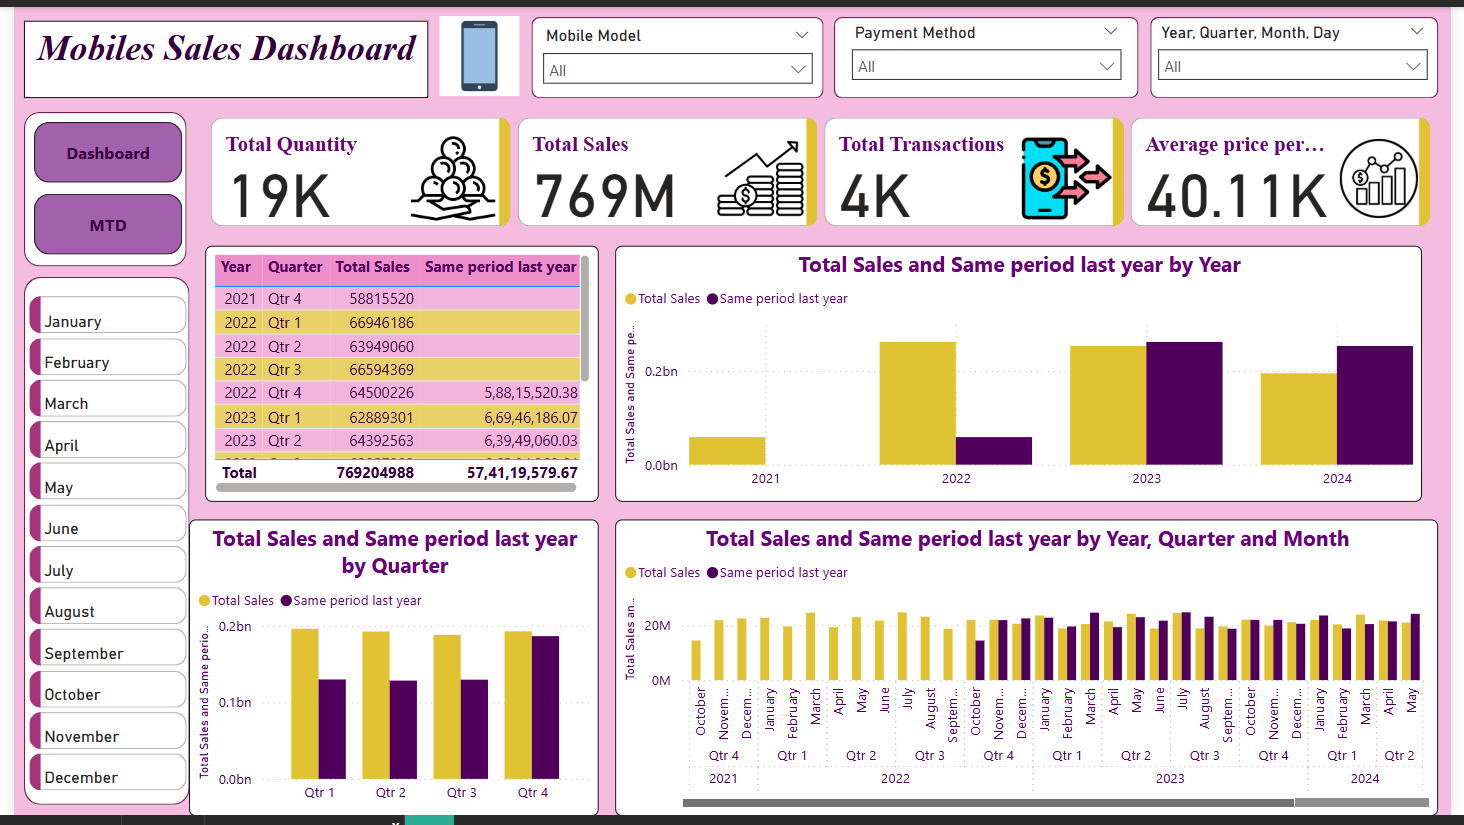

This screenshot's page, from the dashboard's own definition file:
{"tool":"powerbi","page":{"name":"Same Period Last Year","canvas":[1280,720],"ordinal":2},"visuals":[{"type":"shape","box":[8.8,240,147.5,470],"z":0},{"type":"advancedSlicerVisual","fields":{"Values":["Date_Table.Date.Variation.Date Hierarchy.Month"]},"box":[8.8,252.5,150,457.5],"z":1000},{"type":"shape","box":[8.6,93.3,144.8,137.4],"z":2000},{"type":"shape","box":[461.4,8.6,260.1,72.4],"z":3000},{"type":"textbox","box":[8.8,12.5,360,68.8],"z":4000},{"type":"shape","box":[730.1,8.6,271.2,72.4],"z":5000},{"type":"shape","box":[1012.3,8.6,256.4,72.4],"z":6000},{"type":"slicer","fields":{"Values":["Sales_Data.Mobile Model"]},"box":[461.4,12.3,260.1,66.3],"z":7000},{"type":"slicer","fields":{"Values":["Sales_Data.Payment Method"]},"box":[736.2,8.6,260.1,66.3],"z":8000},{"type":"slicer","fields":{"Values":["Date_Table.Date.Variation.Date Hierarchy.Year","Date_Table.Date.Variation.Date Hierarchy.Quarter","Date_Table.Date.Variation.Date Hierarchy.Month","Date_Table.Date.Variation.Date Hierarchy.Day"]},"box":[1008.6,8.6,260.1,66.3],"z":9000},{"type":"cardVisual","fields":{"Data":["Sales_Data.Total Quantity","Sales_Data.Total Sales","Sales_Data.Total Transactions","Sales_Data.Average price per unit"]},"box":[170,93.8,1098.8,107.5],"z":10000},{"type":"image","box":[357.5,3.8,113.8,81.2],"z":11000},{"type":"tableEx","fields":{"Values":["Date_Table.Date.Variation.Date Hierarchy.Year","Date_Table.Date.Variation.Date Hierarchy.Quarter","Sales_Data.Total Sales","Sales_Data.Same period last year"]},"box":[170.2,212.1,350.6,228],"z":12000},{"type":"clusteredColumnChart","fields":{"Category":["Date_Table.Date.Variation.Date Hierarchy.Year","Date_Table.Date.Variation.Date Hierarchy.Quarter"],"Y":["Sales_Data.Total Sales","Sales_Data.Same period last year"]},"box":[535.3,212.1,718.5,228],"z":13000},{"type":"clusteredColumnChart","fields":{"Category":["Date_Table.Date.Variation.Date Hierarchy.Year","Date_Table.Date.Variation.Date Hierarchy.Quarter","Date_Table.Date.Variation.Date Hierarchy.Month"],"Y":["Sales_Data.Total Sales","Sales_Data.Same period last year"]},"box":[535.3,455.9,732.9,264],"z":14000},{"type":"clusteredColumnChart","fields":{"Category":["Date_Table.Date.Variation.Date Hierarchy.Year","Date_Table.Date.Variation.Date Hierarchy.Quarter"],"Y":["Sales_Data.Total Sales","Sales_Data.Same period last year"]},"box":[155.8,455.9,365,264],"z":15000},{"type":"pageNavigator","box":[17.3,102.4,132.7,118.3],"z":16000}]}

Visuals, with their boxes in screenshot pixels (x1, y1, x2, y2), scaled from the page's 1280x720 canvas onto the 1464x825 screenshot:
shape: 10 275 179 814
advancedSlicerVisual - Date_Table.Date.Variation.Date Hierarchy.Month: 10 289 182 814
shape: 10 107 175 264
shape: 528 10 825 93
textbox: 10 14 422 93
shape: 835 10 1145 93
shape: 1158 10 1451 93
slicer - Sales_Data.Mobile Model: 528 14 825 90
slicer - Sales_Data.Payment Method: 842 10 1140 86
slicer - Date_Table.Date.Variation.Date Hierarchy.Year x Date_Table.Date.Variation.Date Hierarchy.Quarter: 1154 10 1451 86
cardVisual - Sales_Data.Total Quantity x Sales_Data.Total Sales: 194 107 1451 231
image: 409 4 539 97
tableEx - Date_Table.Date.Variation.Date Hierarchy.Year x Date_Table.Date.Variation.Date Hierarchy.Quarter: 195 243 596 504
clusteredColumnChart - Date_Table.Date.Variation.Date Hierarchy.Year x Date_Table.Date.Variation.Date Hierarchy.Quarter: 612 243 1434 504
clusteredColumnChart - Date_Table.Date.Variation.Date Hierarchy.Year x Date_Table.Date.Variation.Date Hierarchy.Quarter: 612 522 1451 824
clusteredColumnChart - Date_Table.Date.Variation.Date Hierarchy.Year x Date_Table.Date.Variation.Date Hierarchy.Quarter: 178 522 596 824
pageNavigator: 20 117 172 253
